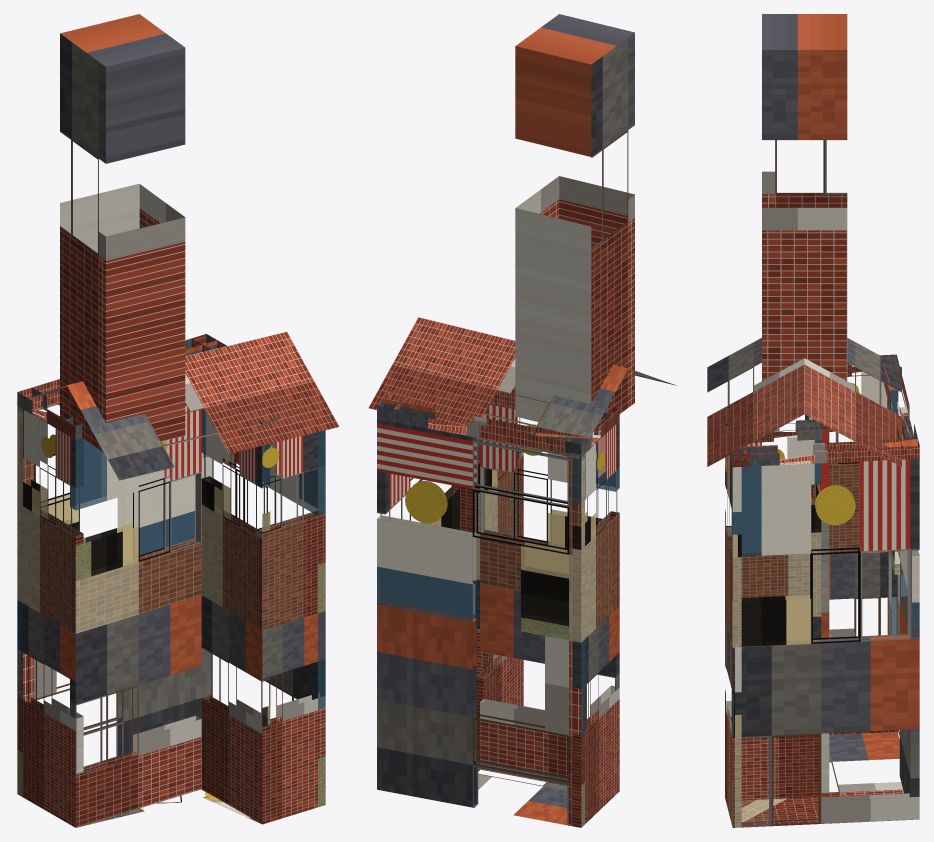
3 renders of one model, left to right at view 1: azimuth 30°, elevation 25°; view 2: azimuth 150°, elevation 25°; view 3: azimuth 270°, elevation 25°, orthographic. The views are drawn at different scales.
Visible parts, largest first — view 1: 734333597__chimney_0_xb, 734333597__wall_3_xb, 734333597__wall_4_xb, 734333597__wall_2_xb, 734333597__wall_5_xb, 734333597_roof_-1_xb, 734333597__wall_1_xb, 734333597__wall_0_xb, 734333597__wall_3_xf, 734333597__wall_1_xf, 734333597__wall_0_xf, 734333597__wall_4_xf (+3 smaller); view 2: 734333597__wall_1_xb, 734333597__chimney_0_xb, 734333597__wall_3_xb, 734333597__wall_2_xb, 734333597_roof_1_xb, 734333597__wall_1_xf, 734333597__wall_4_xb, 734333597__cornice_1, 734333597__wall_0_xb, 734333597__base, 734333597__wall_5_xb, 734333597__wall_3_xf (+3 smaller); view 3: 734333597__wall_0_xb, 734333597__chimney_0_xb, 734333597__wall_4_xb, 734333597_roof_-1_xb, 734333597_roof_1_xb, 734333597__wall_2_xb, 734333597__wall_0_xf, 734333597__wall_5_xb, 734333597__base, 734333597__wall_1_xb, 734333597__cornice_0, 734333597__wall_3_xb (+3 smaller).
Part boxes in pixels (left/top/right/bottom): 734333597__chimney_0_xb: left=60, top=14, right=185, bottom=453; 734333597__wall_3_xb: left=70, top=405, right=201, bottom=827; 734333597__wall_4_xb: left=201, top=409, right=270, bottom=823; 734333597__wall_2_xb: left=17, top=409, right=83, bottom=827; 734333597__wall_5_xb: left=257, top=431, right=325, bottom=824; 734333597_roof_-1_xb: left=67, top=331, right=339, bottom=480; 734333597__wall_1_xb: left=17, top=402, right=212, bottom=796; 734333597__wall_0_xb: left=203, top=430, right=325, bottom=807; 734333597__wall_3_xf: left=70, top=438, right=138, bottom=580; 734333597__wall_1_xf: left=17, top=407, right=194, bottom=796; 734333597__wall_0_xf: left=299, top=431, right=325, bottom=806; 734333597__wall_4_xf: left=202, top=409, right=269, bottom=725; 734333597__wall_1_xb: left=377, top=419, right=584, bottom=827; 734333597__chimney_0_xb: left=515, top=14, right=634, bottom=432; 734333597__wall_3_xb: left=480, top=404, right=619, bottom=785; 734333597__wall_2_xb: left=572, top=421, right=619, bottom=827; 734333597_roof_1_xb: left=368, top=317, right=628, bottom=459; 734333597__wall_1_xf: left=377, top=455, right=584, bottom=825; 734333597__wall_4_xb: left=475, top=385, right=523, bottom=764; 734333597__cornice_1: left=377, top=399, right=588, bottom=456; 734333597__wall_0_xb: left=377, top=422, right=459, bottom=605; 734333597__base: left=478, top=767, right=567, bottom=825; 734333597__wall_5_xb: left=451, top=440, right=523, bottom=675; 734333597__wall_3_xf: left=548, top=429, right=619, bottom=547; 734333597__wall_0_xb: left=731, top=459, right=919, bottom=827; 734333597__chimney_0_xb: left=762, top=14, right=847, bottom=380; 734333597__wall_4_xb: left=725, top=435, right=821, bottom=800; 734333597_roof_-1_xb: left=707, top=338, right=804, bottom=466; 734333597_roof_1_xb: left=804, top=338, right=901, bottom=466; 734333597__wall_2_xb: left=805, top=371, right=897, bottom=734; 734333597__wall_0_xf: left=732, top=466, right=811, bottom=734; 734333597__wall_5_xb: left=725, top=455, right=741, bottom=827; 734333597__base: left=741, top=732, right=903, bottom=825; 734333597__wall_1_xb: left=887, top=388, right=919, bottom=796; 734333597__cornice_0: left=730, top=438, right=919, bottom=466; 734333597__wall_3_xb: left=805, top=415, right=829, bottom=792.
Bounding box in the file's own units: 0.4156 × 1.4 × 0.374.
Materials: 1 (1 with a texture image).
